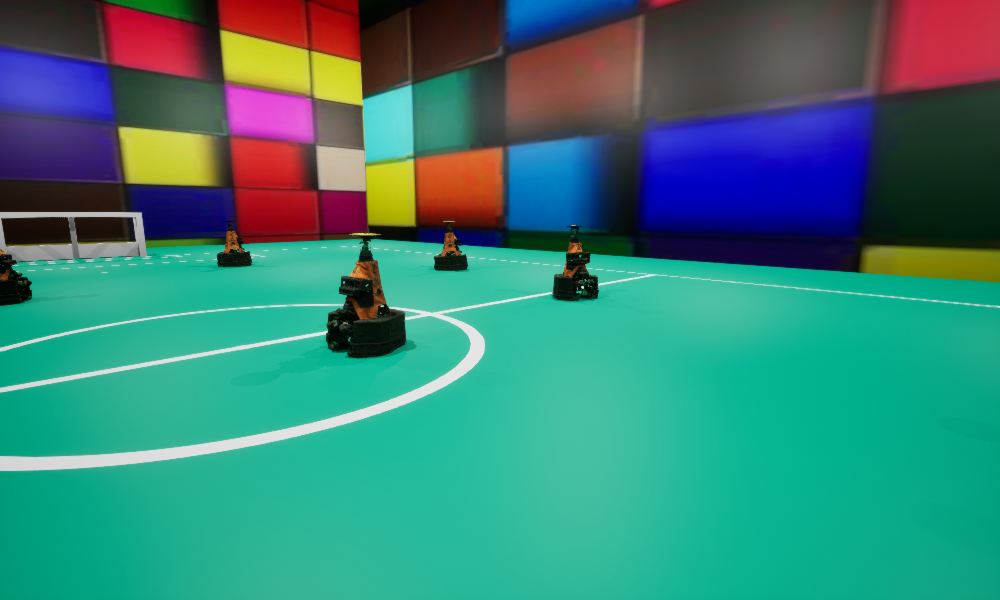o: (326, 233, 405, 356), (553, 225, 598, 300), (0, 249, 31, 305), (434, 221, 467, 270), (217, 221, 251, 266)
